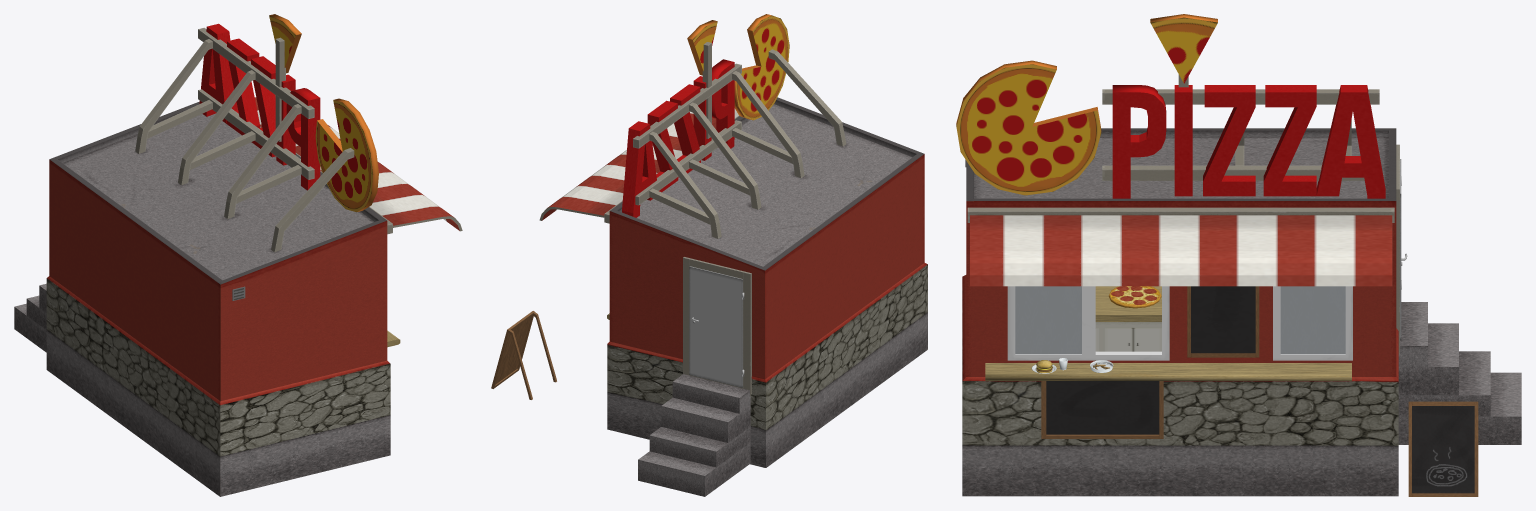
Rendered from StandsPizza.fbx.
The picture shows the model from 3 angles, left to right: view 1: azimuth 30°, elevation 25°; view 2: azimuth 150°, elevation 25°; view 3: azimuth 270°, elevation 25°; orthographic projection. The views are drawn at different scales.
Parts seen in each view (by area): view 1: Pizza_Stand; view 2: Pizza_Stand, Pizza_Stand_Door, Pizza_Stand_Sign; view 3: Pizza_Stand, Windows, Pizza_Stand_Sign, Decoration.
Boxes of the visible parts, x1,y1,x2,y2 form: Pizza_Stand: (14, 14, 462, 496); Pizza_Stand: (539, 14, 927, 496); Pizza_Stand_Door: (689, 266, 744, 387); Pizza_Stand_Sign: (491, 311, 556, 399); Pizza_Stand: (956, 14, 1521, 496); Windows: (1015, 286, 1345, 354); Pizza_Stand_Sign: (1408, 401, 1478, 496); Decoration: (1031, 358, 1113, 373).
Size of the model in its own units: 398 by 540 by 588.
